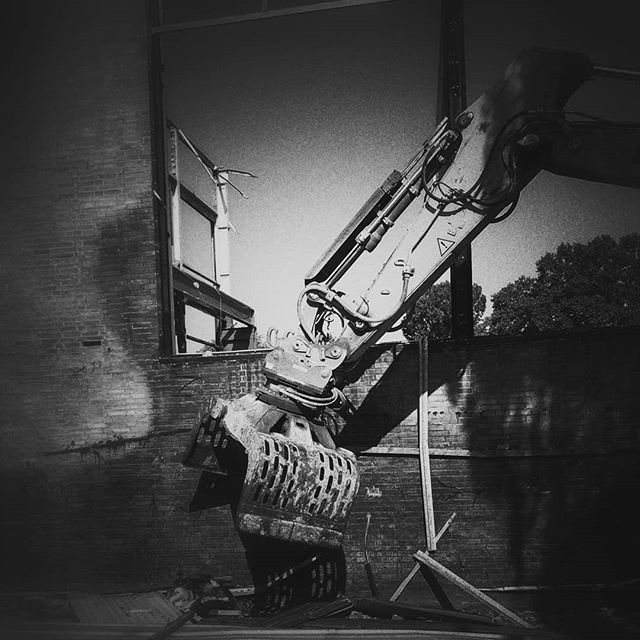excavator: (201, 88, 640, 566)
wall: (1, 351, 634, 579)
